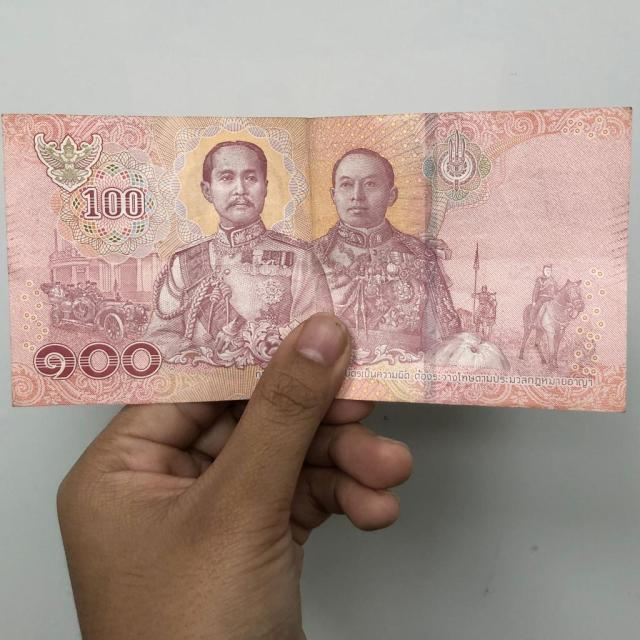THAI100: (0, 109, 632, 414)
